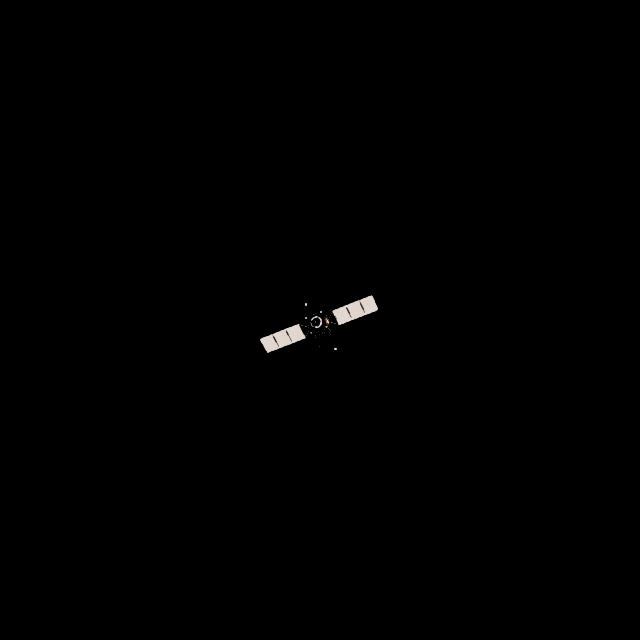medium_debris: (261, 297, 378, 355)
